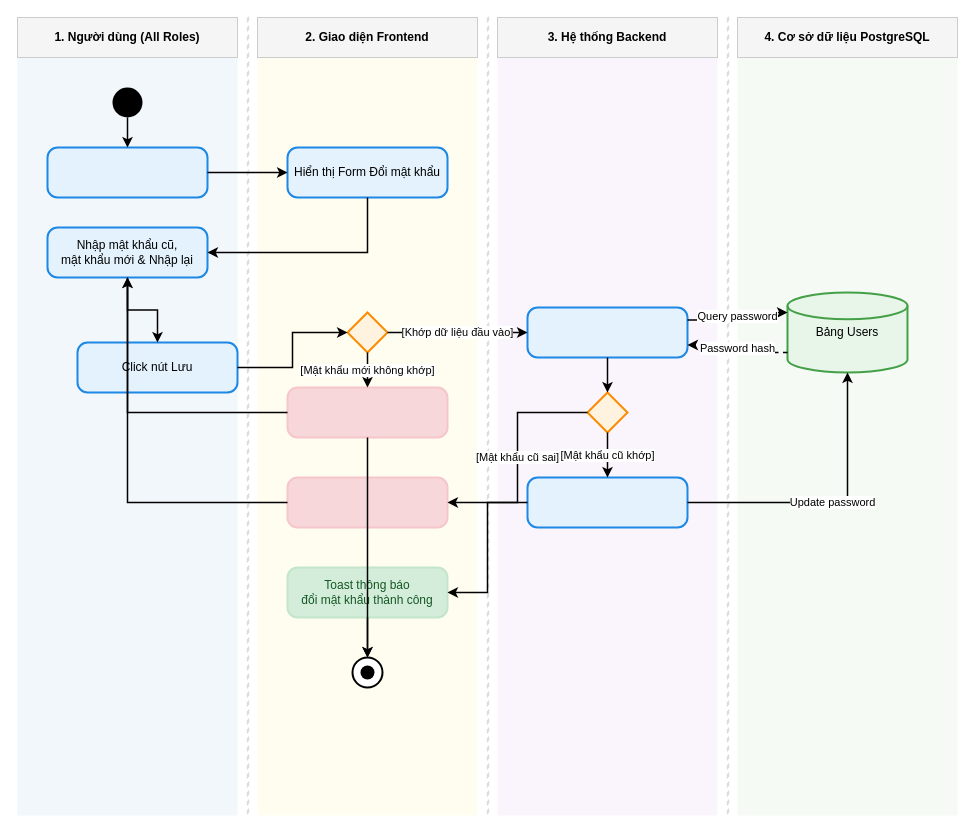
The diagram is 975 pixels wide and 834 high, and some of its shapes have lost their labels. The box of each missing label's shape, as (x1, y1, x2, y2) in pixels:
Băm BCrypt mật khẩu mới & Cập nhật vào DB: (526, 476, 688, 528)
Chọn chức năng Đổi mật khẩu: (46, 146, 208, 198)
Hiển thị lỗi: Mật khẩu cũ không chính xác: (286, 476, 448, 528)
Hiển thị lỗi: Mật khẩu mới nhập lại không khớp: (286, 386, 448, 438)
So khớp mật khẩu cũ bằng BCrypt: (526, 306, 688, 358)
